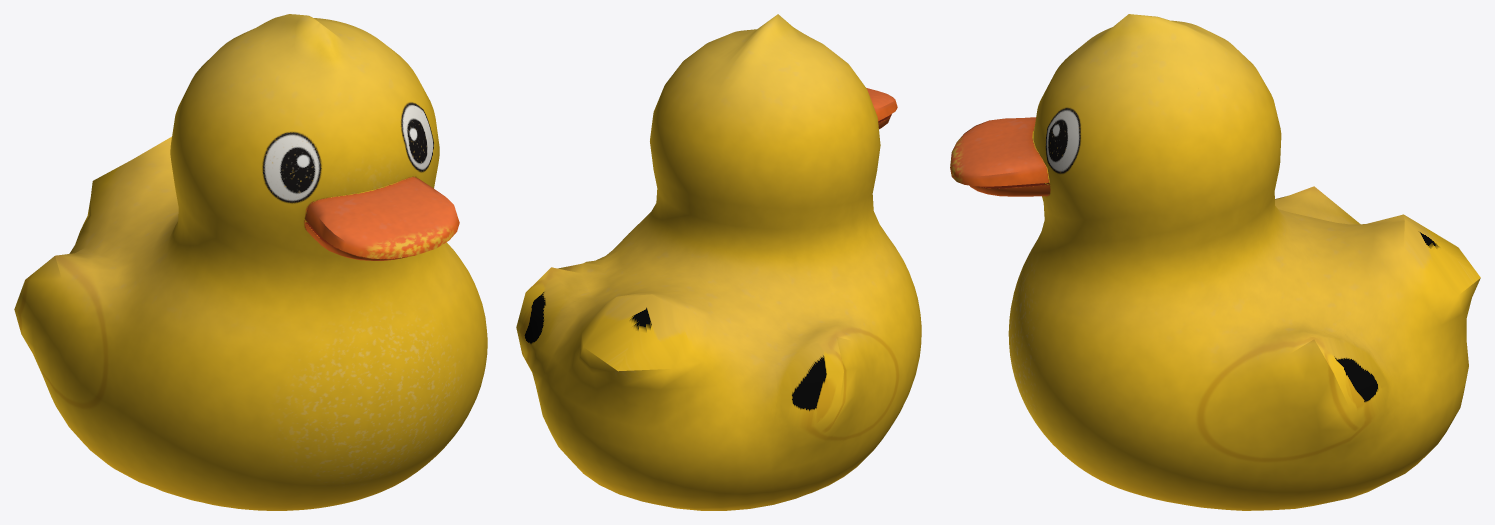
Rendered from RubberDuck.fbx.
3 views of the same model, side by side, from view 1: azimuth 30°, elevation 25°; view 2: azimuth 150°, elevation 25°; view 3: azimuth 270°, elevation 25° (orthographic). The views are drawn at different scales.
Parts seen in each view (by area): view 1: RubberDuck_Body; view 2: RubberDuck_Body; view 3: RubberDuck_Body.
Part boxes in pixels (x1,y1,x2,y2): RubberDuck_Body: (14, 14, 487, 510); RubberDuck_Body: (516, 14, 921, 510); RubberDuck_Body: (950, 14, 1480, 510).
Size of the model in its own units: 0.2849 by 0.3438 by 0.3685.
1 material, 1 textured.
